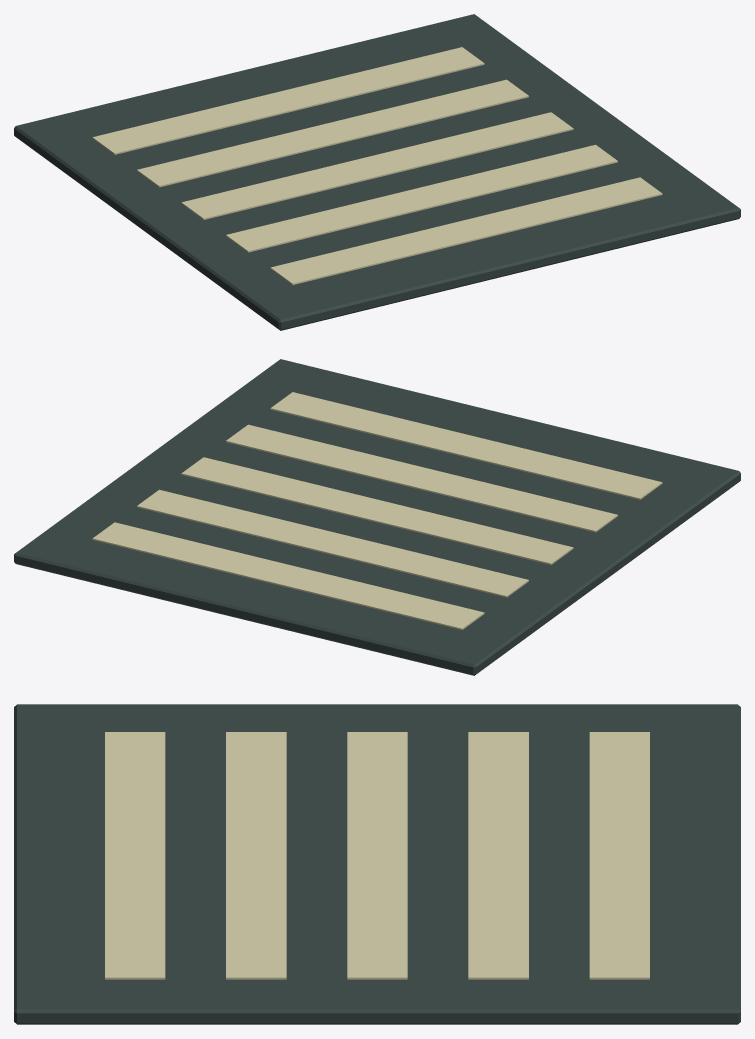
File: road_crossing.glb
The picture shows the model from 3 angles, top to bottom: view 1: azimuth 30°, elevation 25°; view 2: azimuth 150°, elevation 25°; view 3: azimuth 270°, elevation 25°; orthographic projection. The views are drawn at different scales.
Parts seen in each view (by area): view 1: road_crossing.001; view 2: road_crossing.001; view 3: road_crossing.001.
Part boxes in pixels (left/top/right/bottom): road_crossing.001: left=14, top=14, right=740, bottom=330; road_crossing.001: left=14, top=359, right=740, bottom=675; road_crossing.001: left=14, top=704, right=740, bottom=1024.
Size of the model in its own units: 6 by 0.158 by 6.
